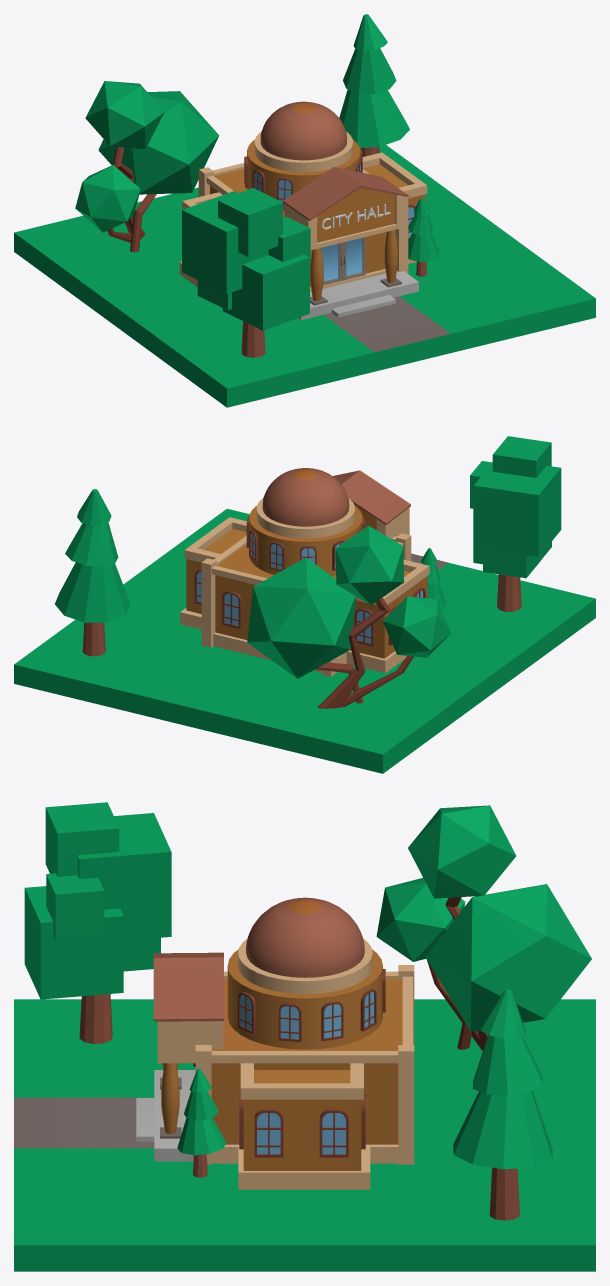
The model's file is cityhall.glb.
3 renders of one model, top to bottom at view 1: azimuth 30°, elevation 25°; view 2: azimuth 150°, elevation 25°; view 3: azimuth 270°, elevation 25°, orthographic. The views are drawn at different scales.
Parts seen in each view (by area): view 1: CityHall; view 2: CityHall; view 3: CityHall.
Boxes of the visible parts, x1,y1,x2,y2 form: CityHall: (14, 14, 595, 407); CityHall: (14, 436, 595, 773); CityHall: (14, 802, 595, 1271).
Bounding box in the file's own units: 2 × 0.9842 × 2.
1 material, 1 textured.
